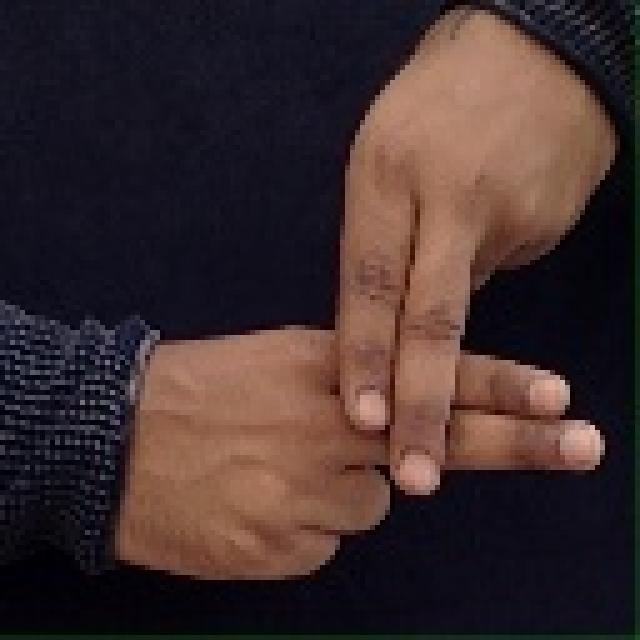Alphabet-F: (120, 10, 611, 574)
